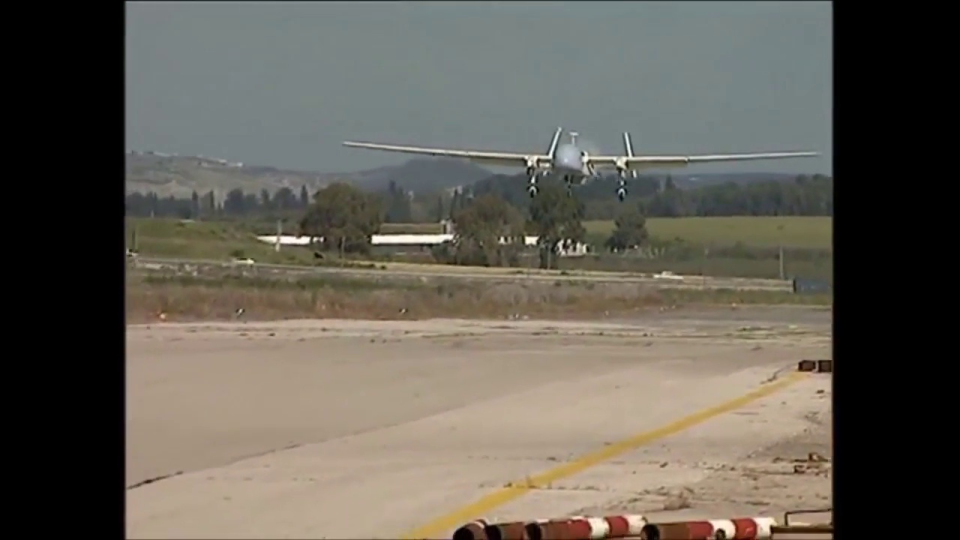military drone: (341, 126, 824, 200)
